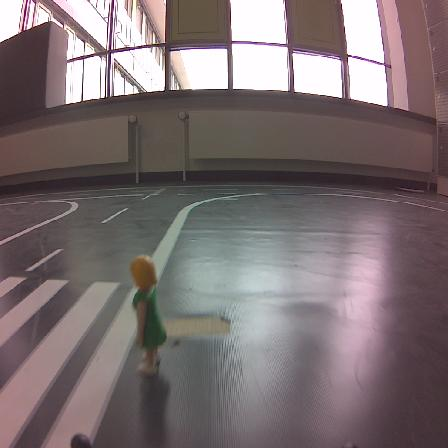PERSON: (130, 254, 166, 374)
